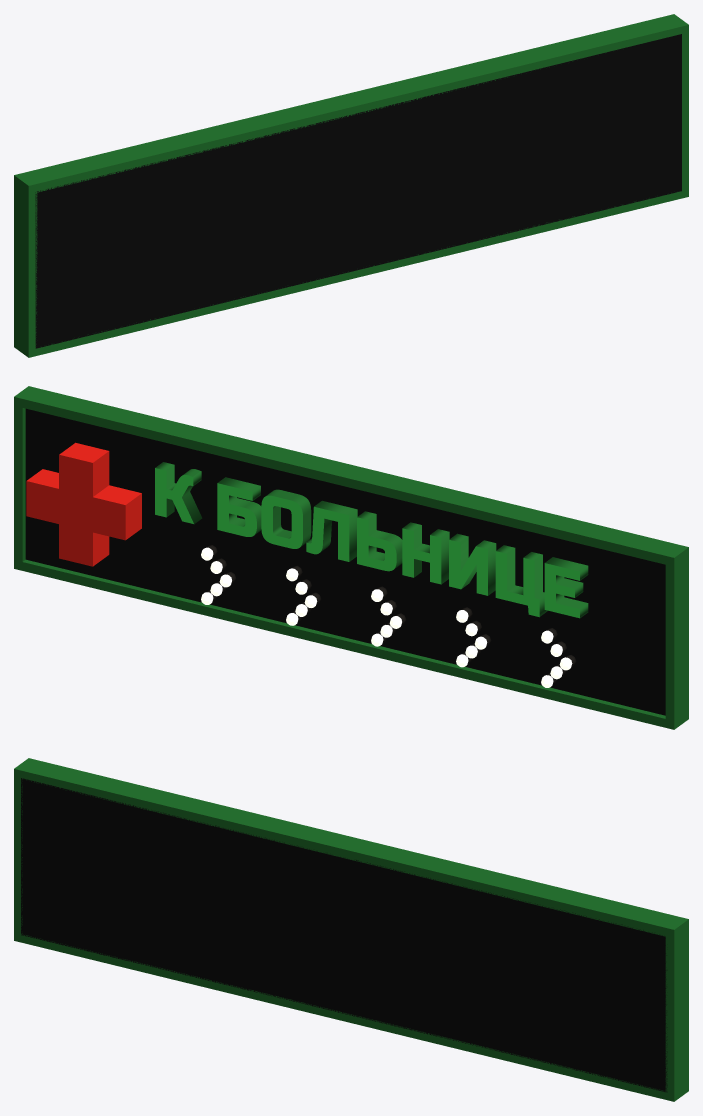
File: to_hospital.glb
3 renders of one model, top to bottom at view 1: azimuth 30°, elevation 25°; view 2: azimuth 150°, elevation 25°; view 3: azimuth 330°, elevation 25°, orthographic.
Parts seen in each view (by area): view 1: Sign; view 2: Sign, BulbsA, BulbsB; view 3: Sign.
Boxes of the visible parts, x1=… form: Sign: x1=14, y1=14, x2=688, y2=357; Sign: x1=14, y1=386, x2=688, y2=729; BulbsA: x1=201, y1=547, x2=572, y2=687; BulbsB: x1=286, y1=568, x2=487, y2=667; Sign: x1=14, y1=758, x2=688, y2=1101.
Size of the model in its own units: 4.66 by 1.16 by 0.34.
Materials: 2 (1 with a texture image).
